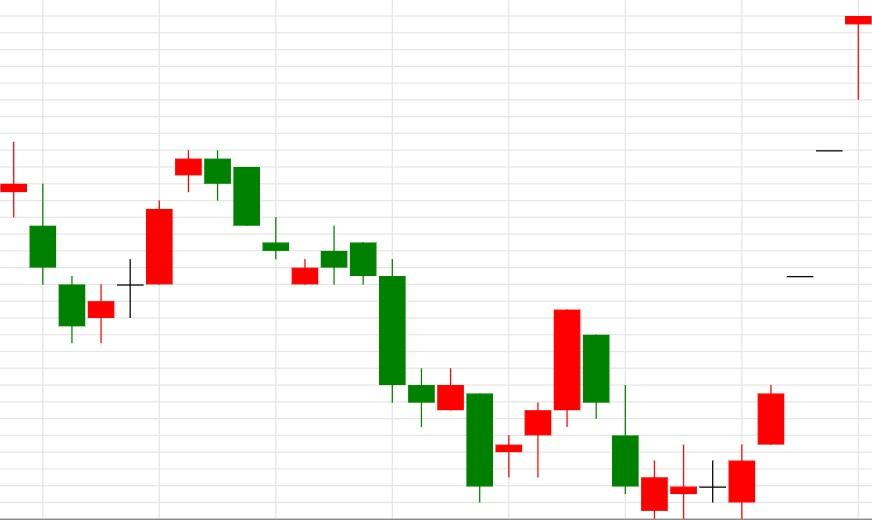bearish_engulfing_fall: (58, 149, 232, 344)
